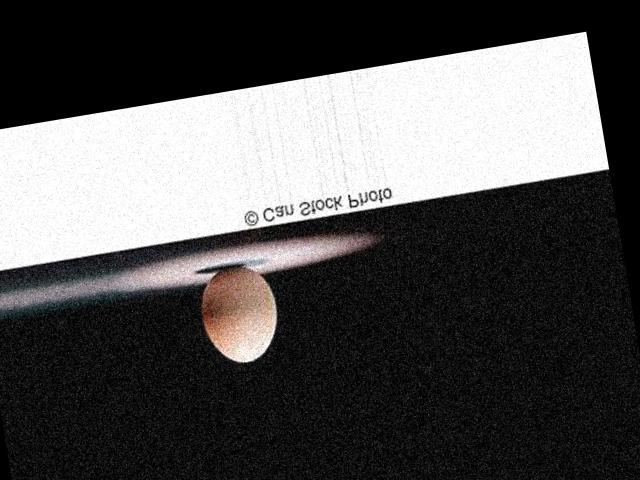egg: (192, 259, 284, 367)
